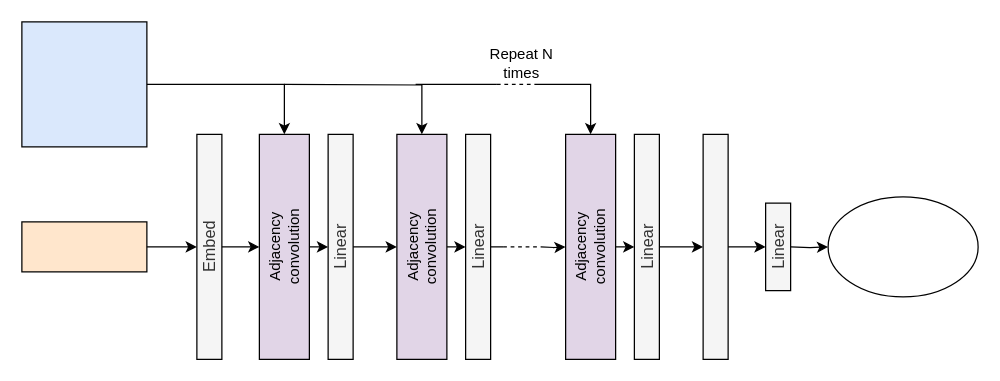
This 1000x381 diagram has some shape labels left out. Here are the shapes that lost their labels. From the top down, the box of each, then its label:
(21, 21, 147, 147): Adjacency matrix
(21, 221, 147, 272): Amino acid sequence
(702, 133, 728, 359): Max pool
(827, 196, 978, 297): Sequence matches adjacency?
